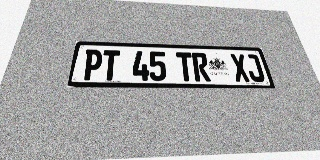4: (132, 51, 149, 81)
5: (150, 51, 167, 81)
J: (244, 54, 266, 82)
P: (81, 49, 103, 80)
R: (191, 53, 211, 81)
T: (100, 50, 120, 81), (176, 52, 195, 81)
X: (229, 54, 251, 82)
